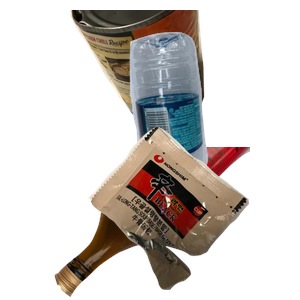glass: (52, 147, 292, 300)
metal: (68, 10, 265, 131)
plastic: (127, 29, 300, 209)
trash: (86, 124, 300, 300)
